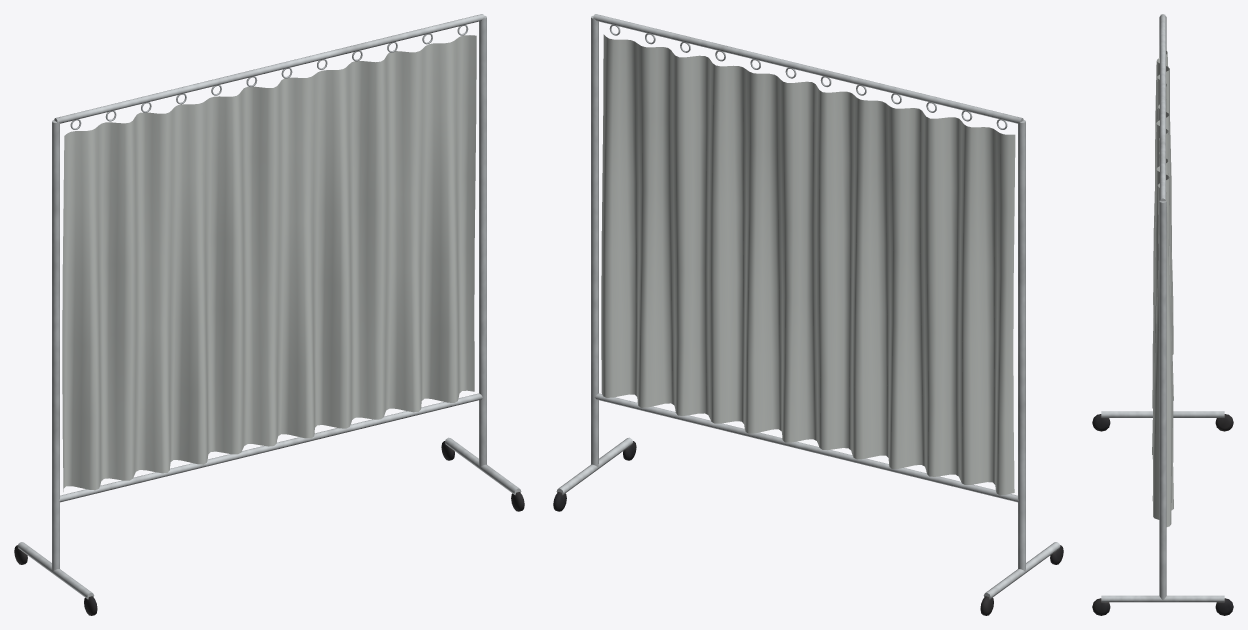
Rendered from szp_parawan.glb.
The picture shows the model from 3 angles, left to right: view 1: azimuth 30°, elevation 25°; view 2: azimuth 150°, elevation 25°; view 3: azimuth 270°, elevation 25°; orthographic projection. The views are drawn at different scales.
Parts seen in each view (by area): view 1: TintZaslona, Rama; view 2: TintZaslona, Rama; view 3: Rama, TintZaslona.
Part boxes in pixels (x1,y1,x2,y2): TintZaslona: (62, 35, 476, 491); Rama: (14, 14, 524, 615); TintZaslona: (601, 34, 1015, 495); Rama: (553, 14, 1063, 615); Rama: (1092, 14, 1233, 615); TintZaslona: (1152, 46, 1173, 526).
Bounding box in the file's own units: 1.73 × 1.79 × 0.55.
Materials: 2 (1 with a texture image).
